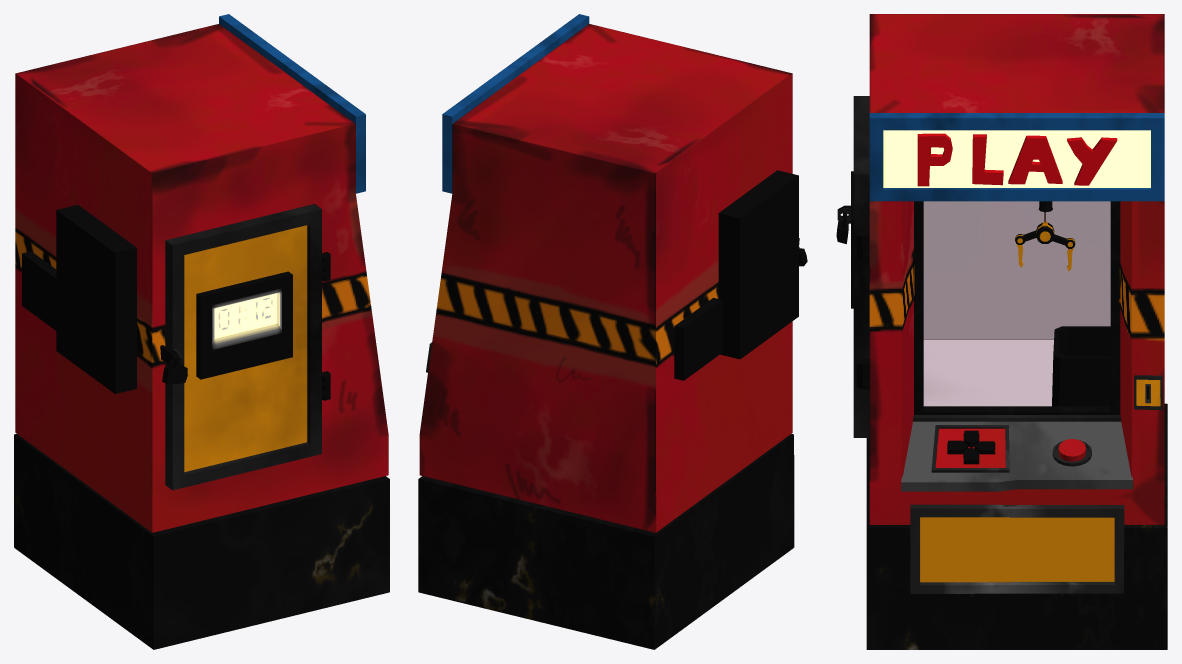
Rendered from автомат_final.fbx.
3 views of the same model, side by side, from view 1: azimuth 30°, elevation 25°; view 2: azimuth 150°, elevation 25°; view 3: azimuth 270°, elevation 25° (orthographic). The views are drawn at different scales.
Parts seen in each view (by area): view 1: корпус.003; view 2: корпус.003; view 3: корпус.003.
Part boxes in pixels (bbox=[...]): корпус.003: bbox=[14, 14, 389, 649]; корпус.003: bbox=[418, 14, 807, 649]; корпус.003: bbox=[836, 14, 1167, 649].
Size of the model in its own units: 228 by 401 by 229.
